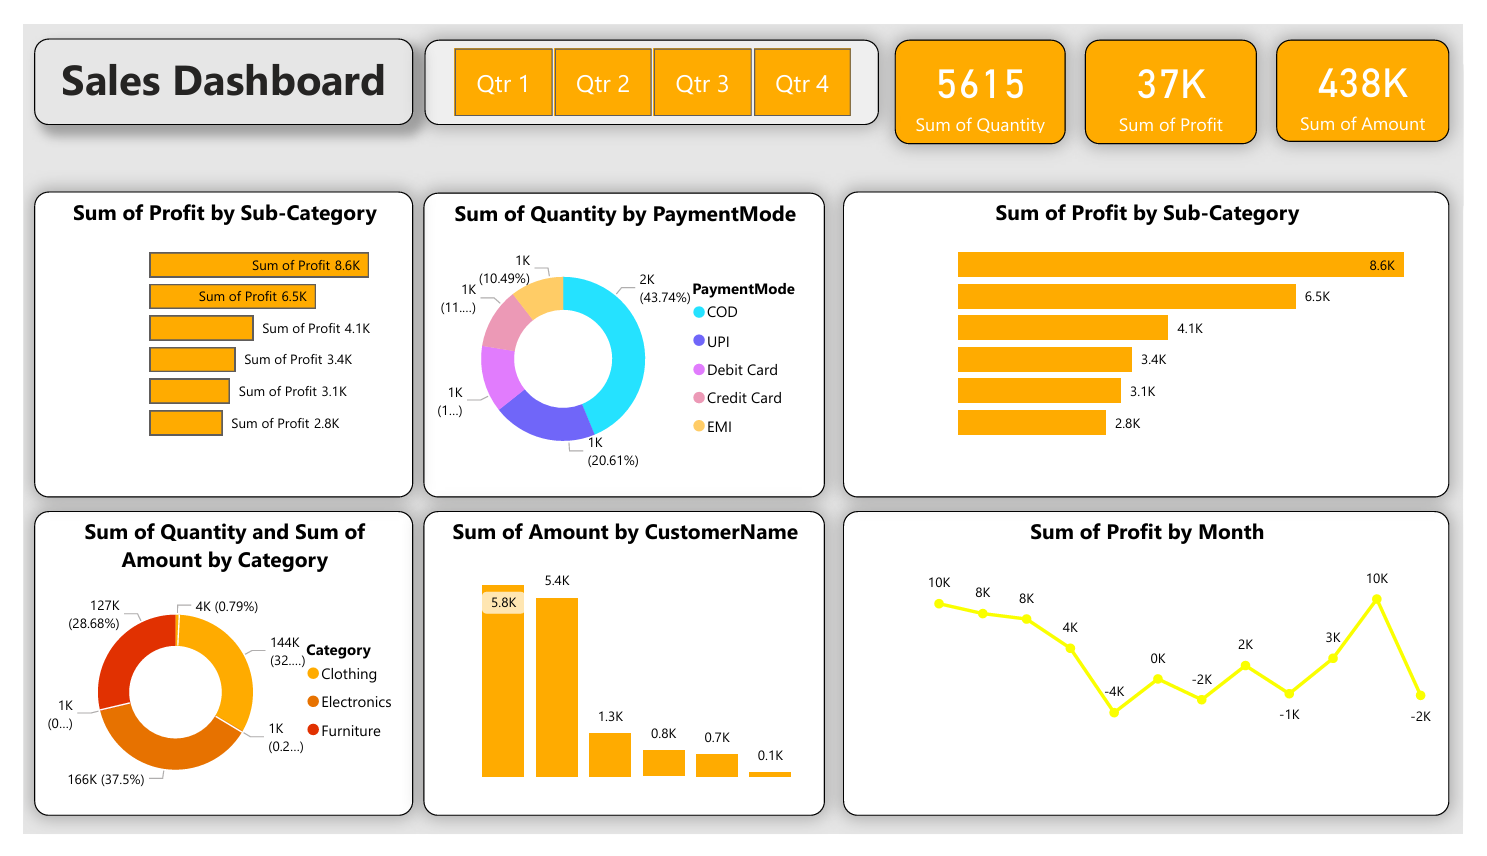

The page's visual inventory and layout, read from the dashboard file:
{"tool":"powerbi","page":{"name":"Dashboard","canvas":[1280,720],"ordinal":0},"visuals":[{"type":"textbox","box":[9.4,12.1,336.3,76.7],"z":0},{"type":"lineChart","fields":{"Category":["Orders.Order Date.Variation.Date Hierarchy.Month"],"Y":["Sum(Details.Profit)"]},"box":[727.7,431.8,539.4,271.7],"z":1000},{"type":"barChart","fields":{"Y":["Sum(Details.Profit)"],"Category":["Details.Sub-Category"]},"box":[727.7,148,539.4,271.7],"z":2000},{"type":"donutChart","fields":{"Y":["Sum(Details.Quantity)","Sum(Details.Amount)"],"Category":["Details.Category"]},"box":[9.4,431.8,336.3,271.7],"z":3000},{"type":"donutChart","fields":{"Y":["Sum(Details.Quantity)"],"Category":["Details.PaymentMode"]},"box":[355.1,149.3,356.5,270.4],"z":4000},{"type":"card","fields":{"Values":["Sum(Details.Amount)"]},"box":[1112.5,12.5,154.2,91.7],"z":5000},{"type":"card","fields":{"Values":["Sum(Details.Profit)"]},"box":[943.1,12.5,152.8,93.1],"z":6000},{"type":"card","fields":{"Values":["Sum(Details.Quantity)"]},"box":[773.6,12.5,152.8,93.1],"z":7000},{"type":"barChart","fields":{"Y":["Sum(Details.Profit)"],"Category":["Details.Sub-Category"]},"box":[9.4,148.1,336.6,271.9],"z":8000},{"type":"lineStackedColumnComboChart","fields":{"Category":["Orders.CustomerName"],"Y":["Sum(Details.Amount)"]},"box":[355.1,431.8,356.5,271.7],"z":9000},{"type":"slicer","fields":{"Values":["Orders.Order Date.Variation.Date Hierarchy.Quarter"]},"box":[355.6,12.5,404.2,76.4],"z":10000}]}

Visuals, with their boxes in screenshot pixels (x1, y1, x2, y2), scaled from the page's 1280x720 canvas onto the 1487x856 screenshot:
textbox: <region>11, 14, 402, 106</region>
lineChart - Orders.Order Date.Variation.Date Hierarchy.Month x Sum(Details.Profit): <region>845, 513, 1472, 836</region>
barChart - Sum(Details.Profit) x Details.Sub-Category: <region>845, 176, 1472, 499</region>
donutChart - Sum(Details.Quantity) x Sum(Details.Amount): <region>11, 513, 402, 836</region>
donutChart - Sum(Details.Quantity) x Details.PaymentMode: <region>413, 178, 827, 499</region>
card - Sum(Details.Amount): <region>1292, 15, 1472, 124</region>
card - Sum(Details.Profit): <region>1096, 15, 1273, 126</region>
card - Sum(Details.Quantity): <region>899, 15, 1076, 126</region>
barChart - Sum(Details.Profit) x Details.Sub-Category: <region>11, 176, 402, 499</region>
lineStackedColumnComboChart - Orders.CustomerName x Sum(Details.Amount): <region>413, 513, 827, 836</region>
slicer - Orders.Order Date.Variation.Date Hierarchy.Quarter: <region>413, 15, 883, 106</region>
